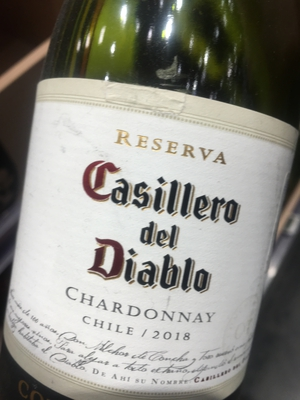casillero del diablo chardonnay: (8, 30, 297, 400)
